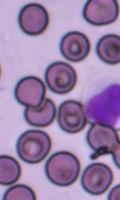M: (82, 74, 119, 128)
